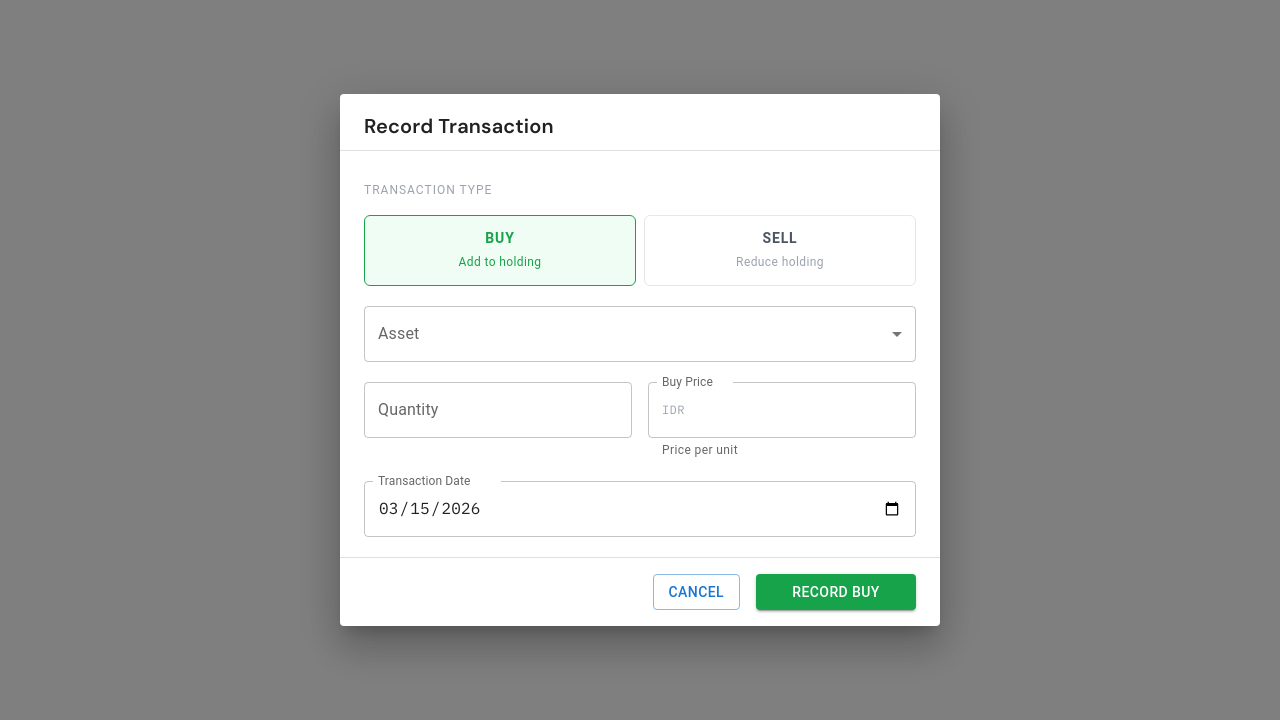
TransactionForm — BUY/SELL toggle › changes submit button label to "Record SELL" after switching
The image size is (1280, 720).
Click the button "SELL Reduce holding": (780, 238) [644,215,916,286]
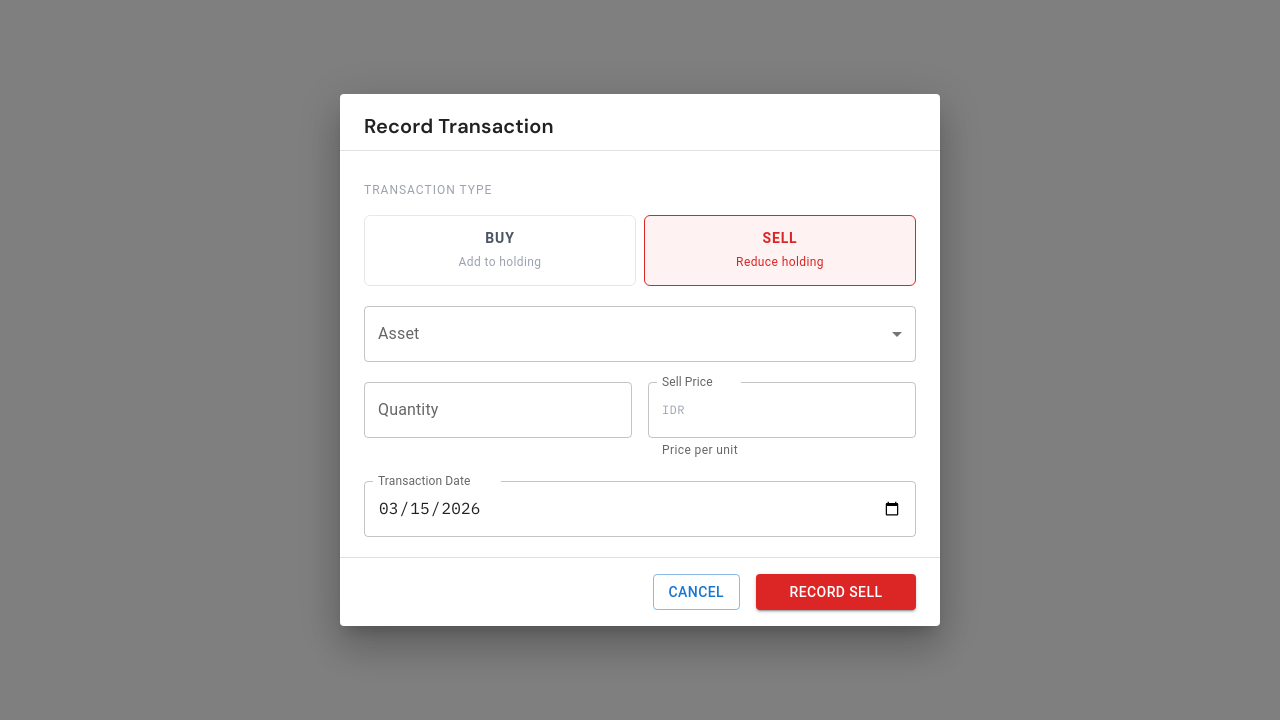
Check: the button "Record SELL" is shown, box [756,574,916,610]
